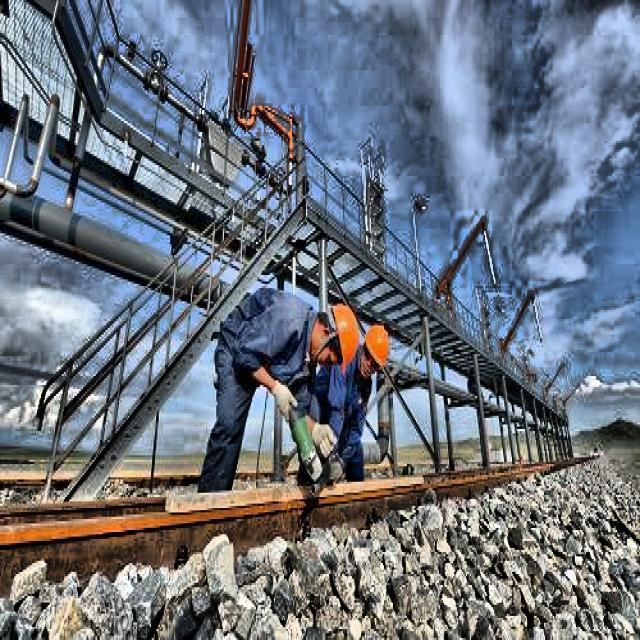helmet: (308, 301, 358, 372), (357, 324, 392, 381)
